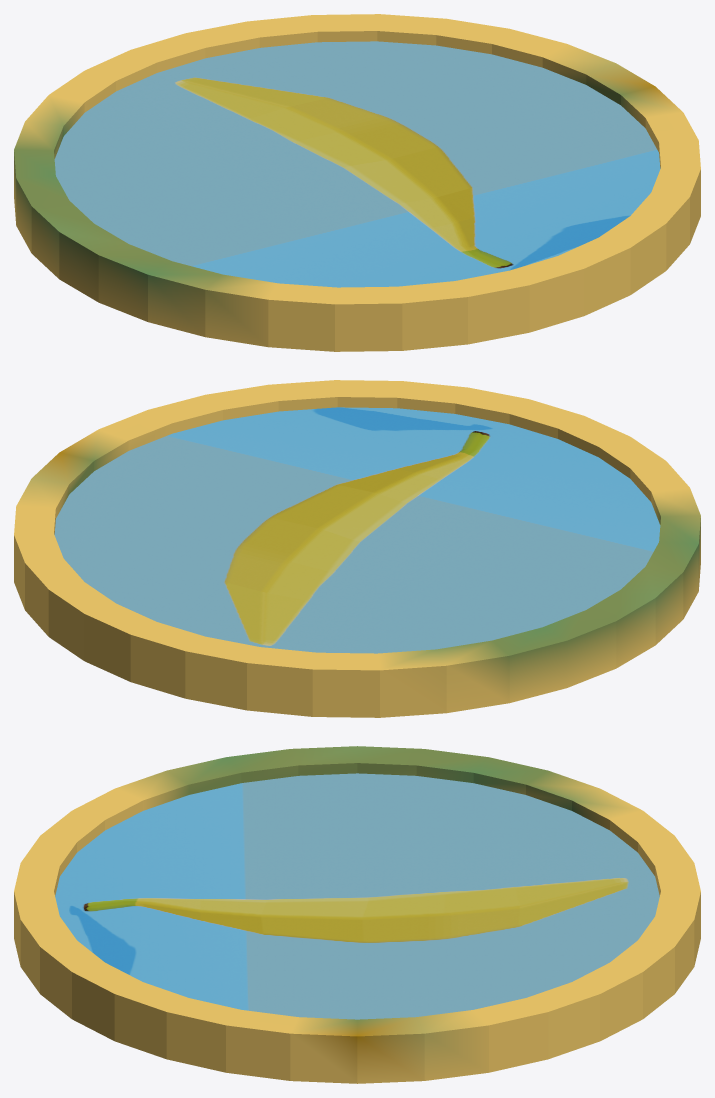
The model's file is coinBANANA.fbx.
3 views of the same model, one above another, from view 1: azimuth 30°, elevation 25°; view 2: azimuth 150°, elevation 25°; view 3: azimuth 270°, elevation 25° (orthographic).
Visible parts, largest first — view 1: Cylinder; view 2: Cylinder; view 3: Cylinder.
Boxes of the visible parts, x1,y1,x2,y2 form: Cylinder: [14, 14, 700, 351]; Cylinder: [14, 380, 700, 717]; Cylinder: [14, 746, 700, 1083].
Bounding box in the file's own units: 677 × 51.52 × 677.
